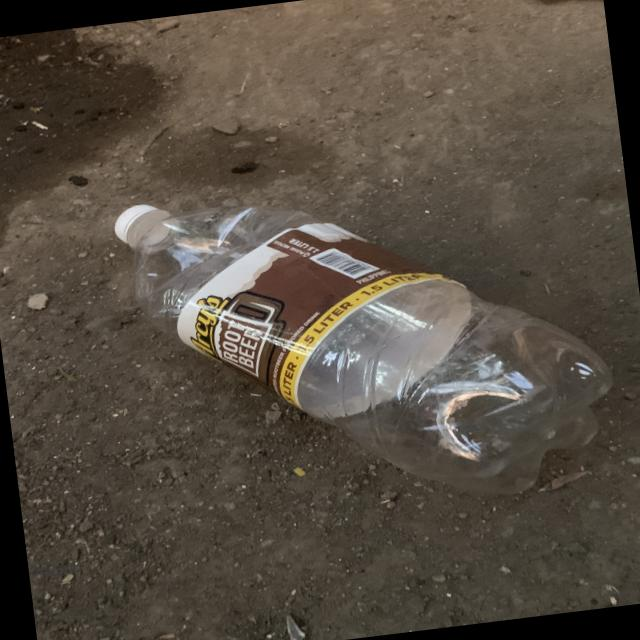Bottle: (114, 204, 611, 493)
